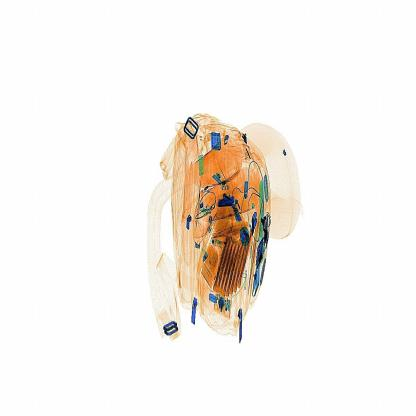knife: (214, 190, 239, 215)
